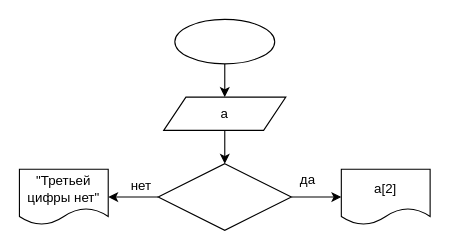
Image size: 450x250. Some labels were removed from this diagram. Here are the shapes that lost their labels. From the top down, the centre of each, then its label:
point (224, 41): start
point (224, 196): a.Length > 2
